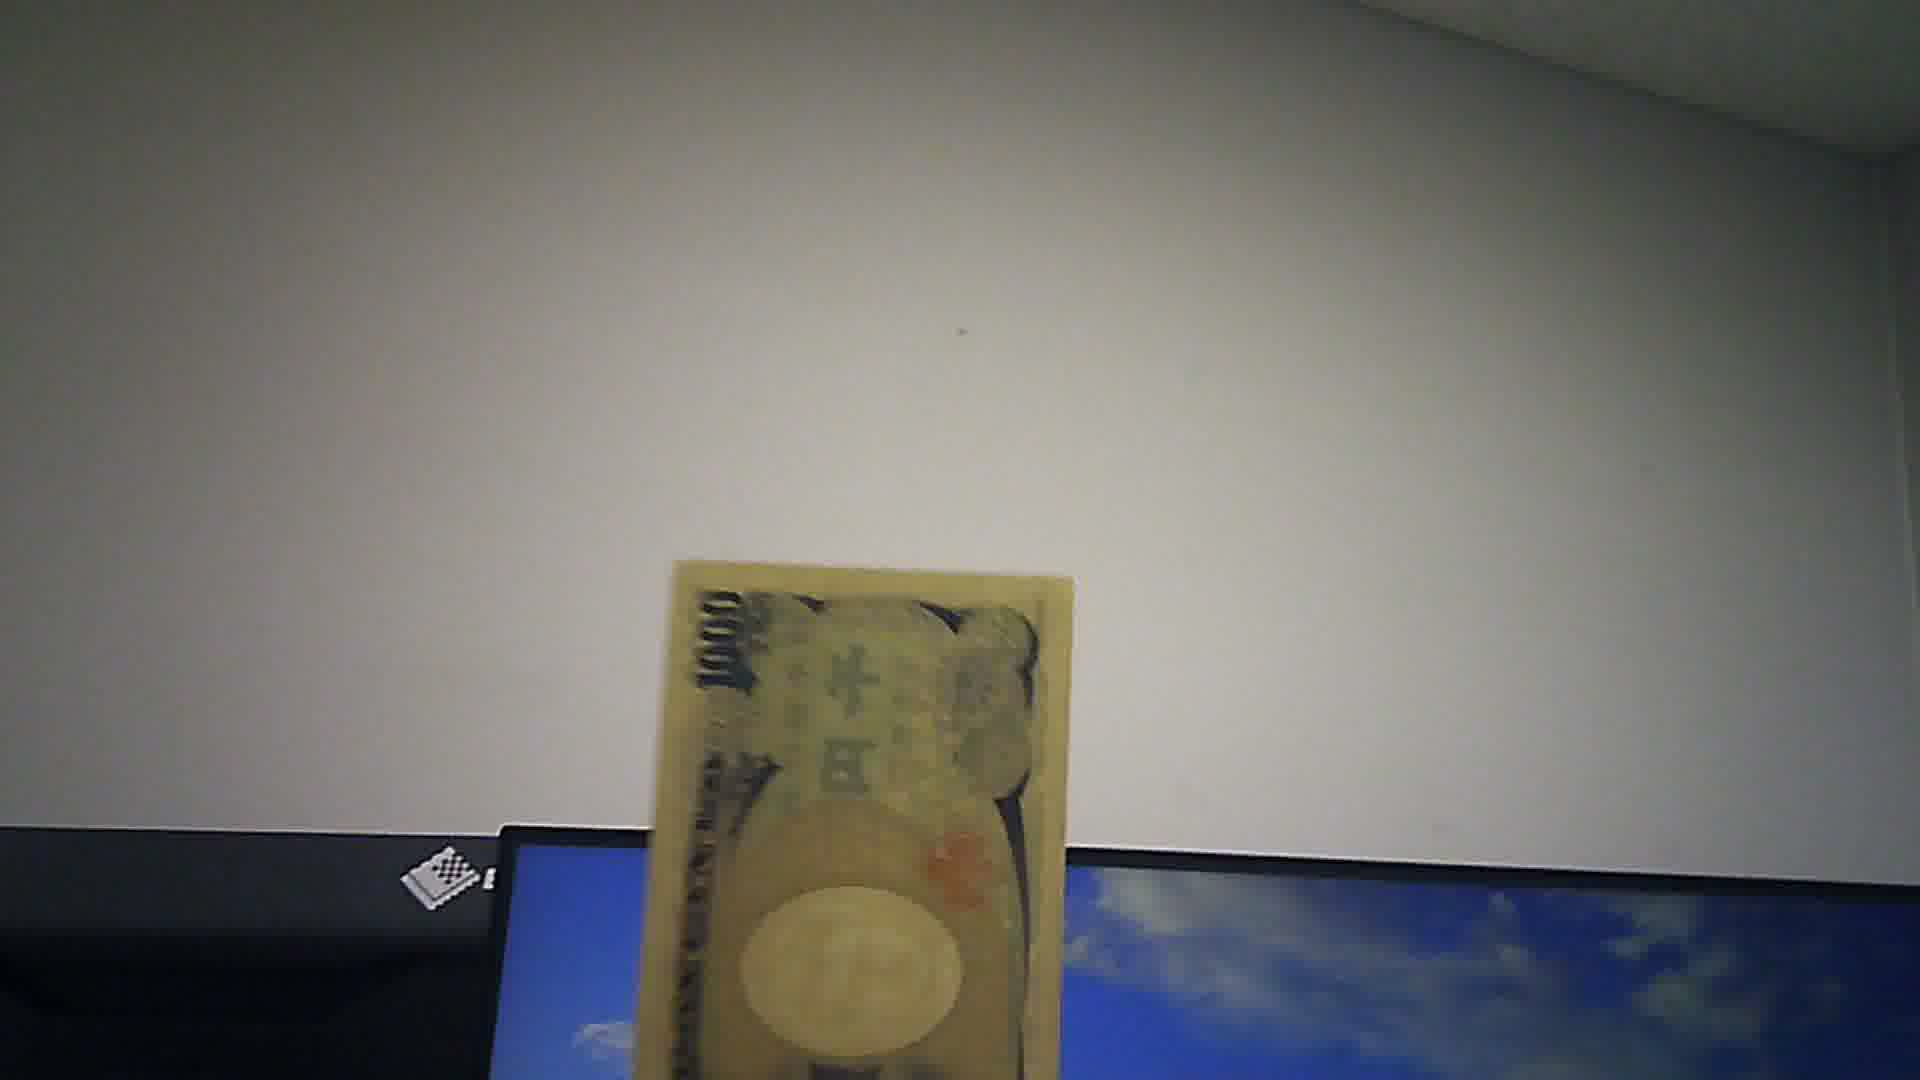1,000 Yen: (644, 555, 1080, 1077)
